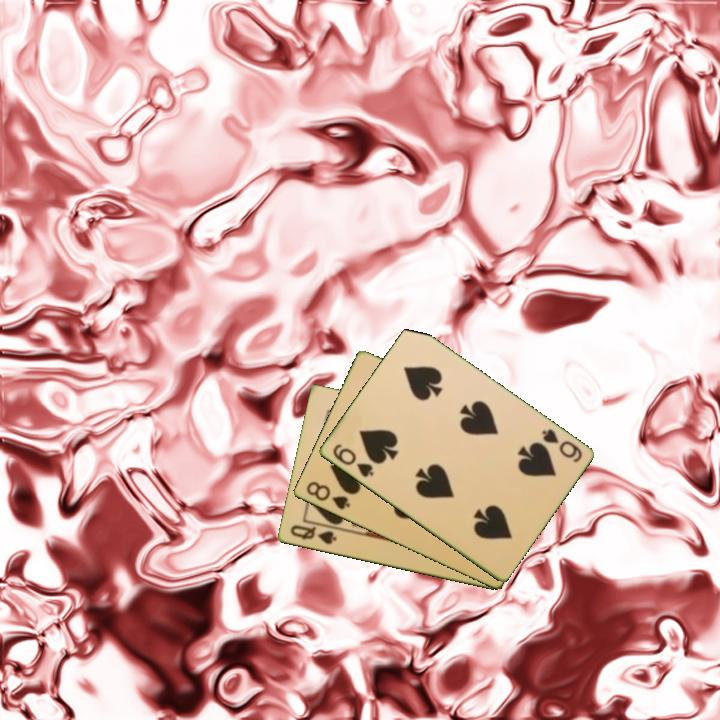6s: (538, 425, 585, 466), (329, 440, 376, 480)
8s: (302, 478, 353, 513)
Qs: (287, 522, 339, 548)
